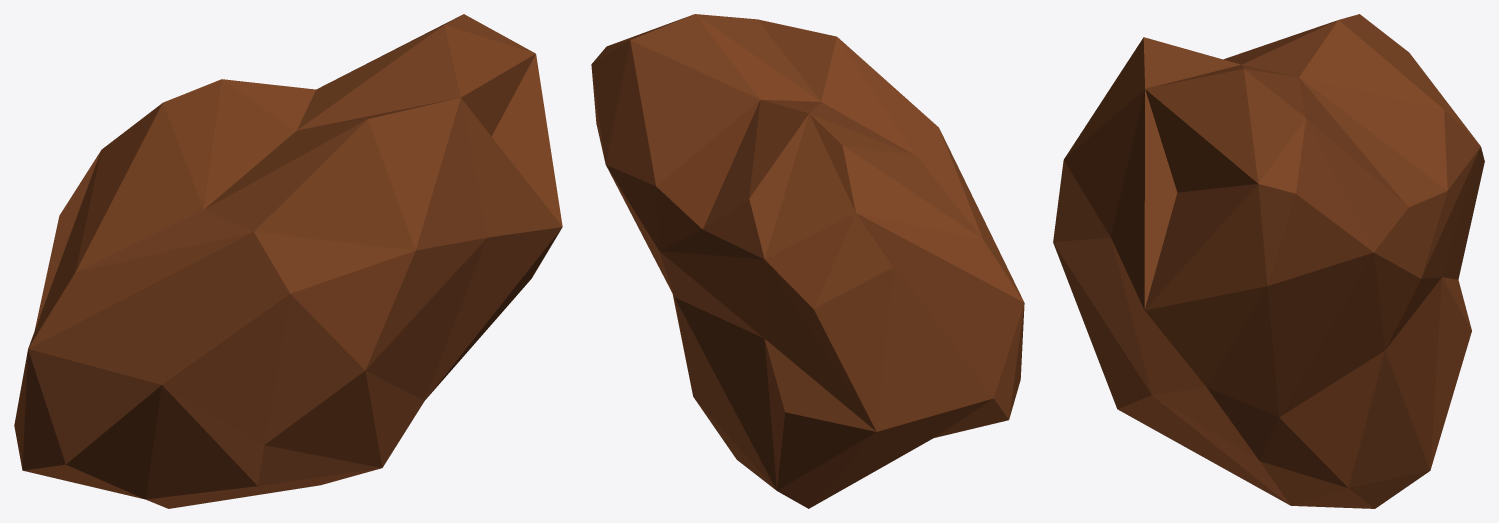
Rendered from Asteroide7.fbx.
3 renders of one model, left to right at view 1: azimuth 30°, elevation 25°; view 2: azimuth 150°, elevation 25°; view 3: azimuth 270°, elevation 25°, orthographic. The views are drawn at different scales.
Parts seen in each view (by area): view 1: Asteroide7; view 2: Asteroide7; view 3: Asteroide7.
Part boxes in pixels (<box>): Asteroide7: <box>14,14,562,508</box>; Asteroide7: <box>591,14,1024,508</box>; Asteroide7: <box>1053,14,1484,508</box>.
Bounding box in the file's own units: 1.34 × 1.22 × 0.9049.
